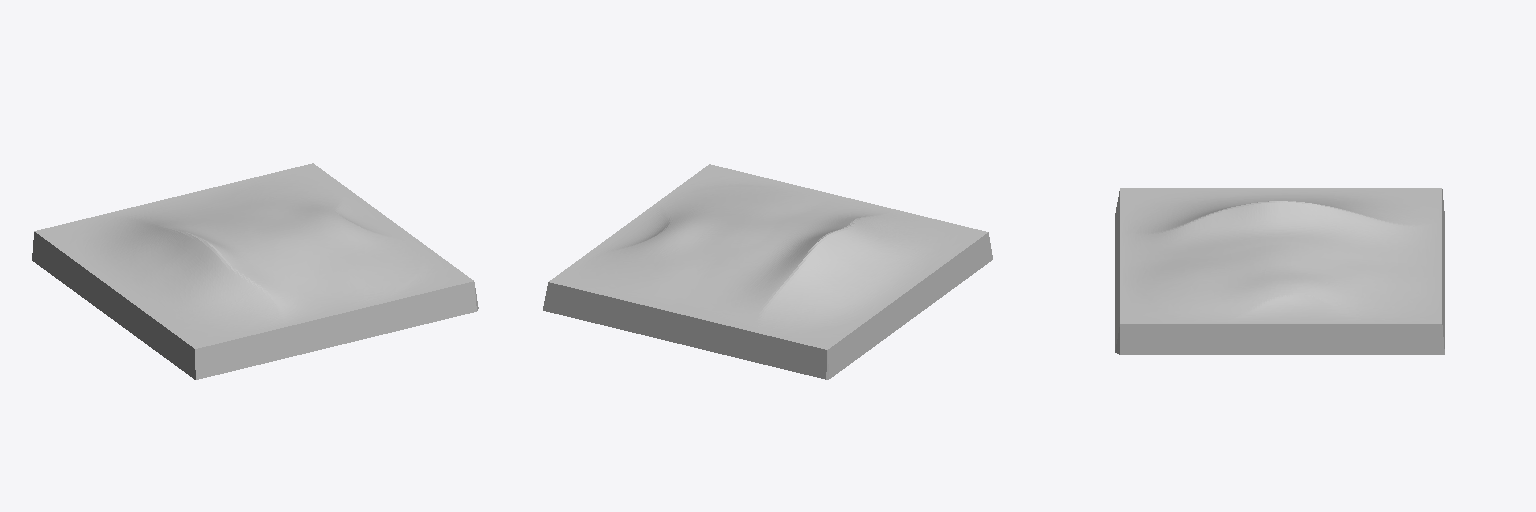
Rendered from areia.obj.
3 views of the same model, side by side, from view 1: azimuth 30°, elevation 25°; view 2: azimuth 150°, elevation 25°; view 3: azimuth 270°, elevation 25° (orthographic).
Size of the model in its own units: 17.45 by 3.39 by 17.45.